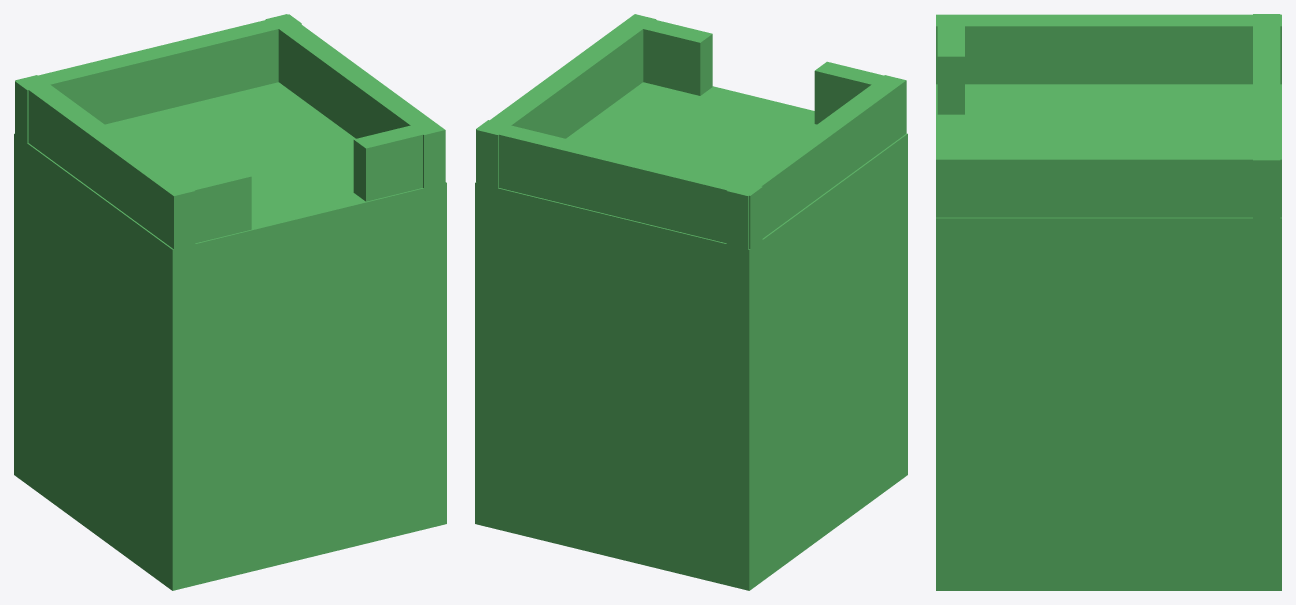
Rendered from fortress_square_tower_walkable_collision.glb.
3 views of the same model, side by side, from view 1: azimuth 30°, elevation 25°; view 2: azimuth 150°, elevation 25°; view 3: azimuth 270°, elevation 25° (orthographic). The views are drawn at different scales.
Parts seen in each view (by area): view 1: fortress_square_tower_walkable-col-core, fortress_square_tower_walkable-col-north, fortress_square_tower_walkable-col-west, fortress_square_tower_walkable-col-east, fortress_square_tower_walkable-col-south-2.05, fortress_square_tower_walkable-col-south--2.05; view 2: fortress_square_tower_walkable-col-core, fortress_square_tower_walkable-col-north, fortress_square_tower_walkable-col-west, fortress_square_tower_walkable-col-east, fortress_square_tower_walkable-col-south-2.05, fortress_square_tower_walkable-col-south--2.05; view 3: fortress_square_tower_walkable-col-core, fortress_square_tower_walkable-col-east, fortress_square_tower_walkable-col-west, fortress_square_tower_walkable-col-north, fortress_square_tower_walkable-col-south--2.05, fortress_square_tower_walkable-col-south-2.05.
Part boxes in pixels (x1,y1,x2,y2): fortress_square_tower_walkable-col-core: (14, 82, 446, 590); fortress_square_tower_walkable-col-north: (15, 14, 301, 143); fortress_square_tower_walkable-col-west: (15, 75, 195, 249); fortress_square_tower_walkable-col-east: (265, 14, 445, 188); fortress_square_tower_walkable-col-south-2.05: (353, 123, 428, 201); fortress_square_tower_walkable-col-south--2.05: (169, 167, 251, 243); fortress_square_tower_walkable-col-core: (475, 82, 907, 590); fortress_square_tower_walkable-col-north: (476, 120, 762, 248); fortress_square_tower_walkable-col-west: (726, 75, 906, 249); fortress_square_tower_walkable-col-east: (476, 14, 656, 188); fortress_square_tower_walkable-col-south-2.05: (634, 17, 712, 95); fortress_square_tower_walkable-col-south--2.05: (814, 61, 896, 124); fortress_square_tower_walkable-col-core: (936, 84, 1281, 590); fortress_square_tower_walkable-col-east: (936, 148, 1281, 217); fortress_square_tower_walkable-col-west: (936, 14, 1281, 84); fortress_square_tower_walkable-col-north: (1253, 14, 1280, 218); fortress_square_tower_walkable-col-south--2.05: (937, 19, 964, 114); fortress_square_tower_walkable-col-south-2.05: (937, 117, 964, 154).
Bounding box in the file's own units: 6.1 × 8.38 × 6.1.
